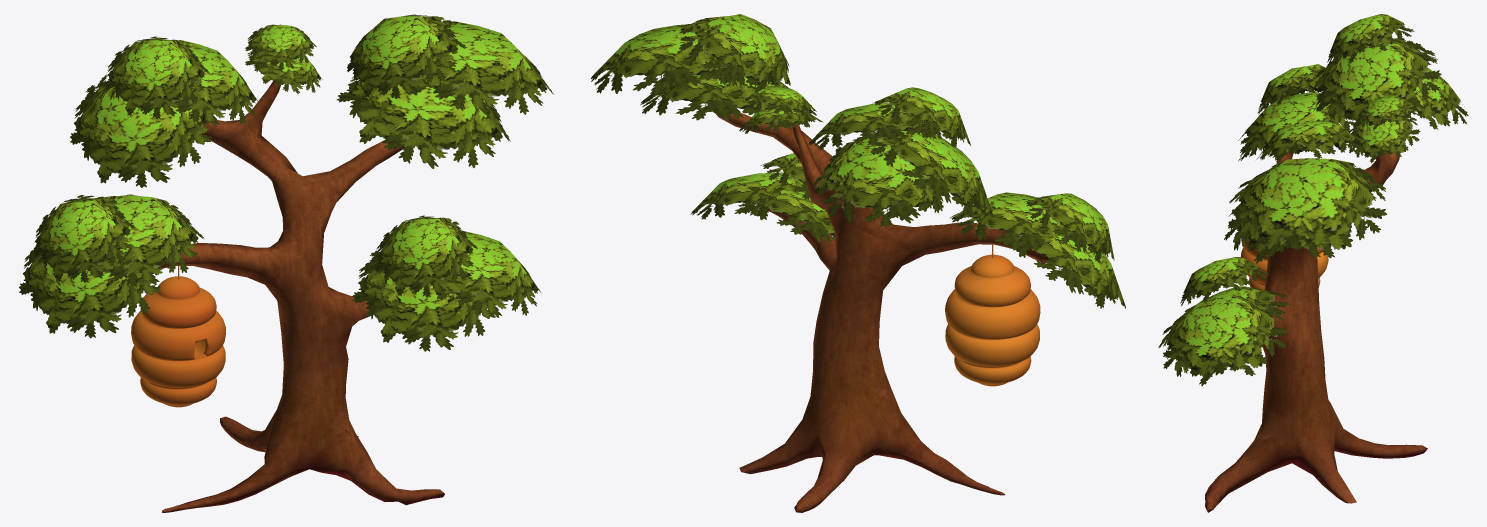
Rendered from tree_hive.fbx.
3 renders of one model, left to right at view 1: azimuth 30°, elevation 25°; view 2: azimuth 150°, elevation 25°; view 3: azimuth 270°, elevation 25°, orthographic. The views are drawn at different scales.
Visible parts, largest first — view 1: tree, pCylinder2, polySurface6, polySurface5, polySurface3, polySurface4, polySurface7, polySurface2, polySurface13, polySurface9, polySurface14, polySurface1 (+4 smaller); view 2: tree, pCylinder2, polySurface15, polySurface4, polySurface3, polySurface6, polySurface7, polySurface1, polySurface5, polySurface2, polySurface8, polySurface9 (+5 smaller); view 3: tree, polySurface3, polySurface12, polySurface8, polySurface1, polySurface4, polySurface9, polySurface14, polySurface10, polySurface15, polySurface2, polySurface11 (+3 smaller).
Boxes of the visible parts, x1,y1,x2,y2 form: tree: [161, 80, 444, 512]; pCylinder2: [131, 265, 225, 407]; polySurface6: [70, 74, 211, 187]; polySurface5: [336, 76, 510, 168]; polySurface3: [410, 21, 553, 115]; polySurface4: [347, 14, 466, 98]; polySurface7: [19, 241, 169, 338]; polySurface2: [33, 195, 136, 282]; polySurface13: [352, 250, 495, 351]; polySurface9: [104, 36, 209, 118]; polySurface14: [374, 215, 478, 297]; polySurface1: [96, 194, 204, 286]; tree: [707, 102, 1048, 512]; pCylinder2: [945, 244, 1040, 386]; polySurface15: [813, 138, 943, 227]; polySurface4: [679, 14, 790, 92]; polySurface3: [591, 24, 731, 94]; polySurface6: [868, 131, 993, 217]; polySurface7: [998, 229, 1125, 308]; polySurface1: [949, 192, 1073, 253]; polySurface5: [640, 75, 816, 121]; polySurface2: [1024, 193, 1114, 262]; polySurface8: [808, 102, 931, 149]; polySurface9: [874, 87, 970, 147]; tree: [1205, 113, 1427, 512]; polySurface3: [1228, 158, 1386, 258]; polySurface12: [1158, 295, 1287, 386]; polySurface8: [1312, 38, 1441, 127]; polySurface1: [1238, 91, 1356, 159]; polySurface4: [1256, 121, 1366, 161]; polySurface9: [1327, 14, 1414, 66]; polySurface14: [1180, 257, 1268, 306]; polySurface10: [1349, 113, 1420, 163]; polySurface15: [1405, 67, 1468, 129]; polySurface2: [1257, 64, 1325, 114]; polySurface11: [1355, 95, 1418, 129].
Bounding box in the file's own units: 65.99 × 53.53 × 37.84.
